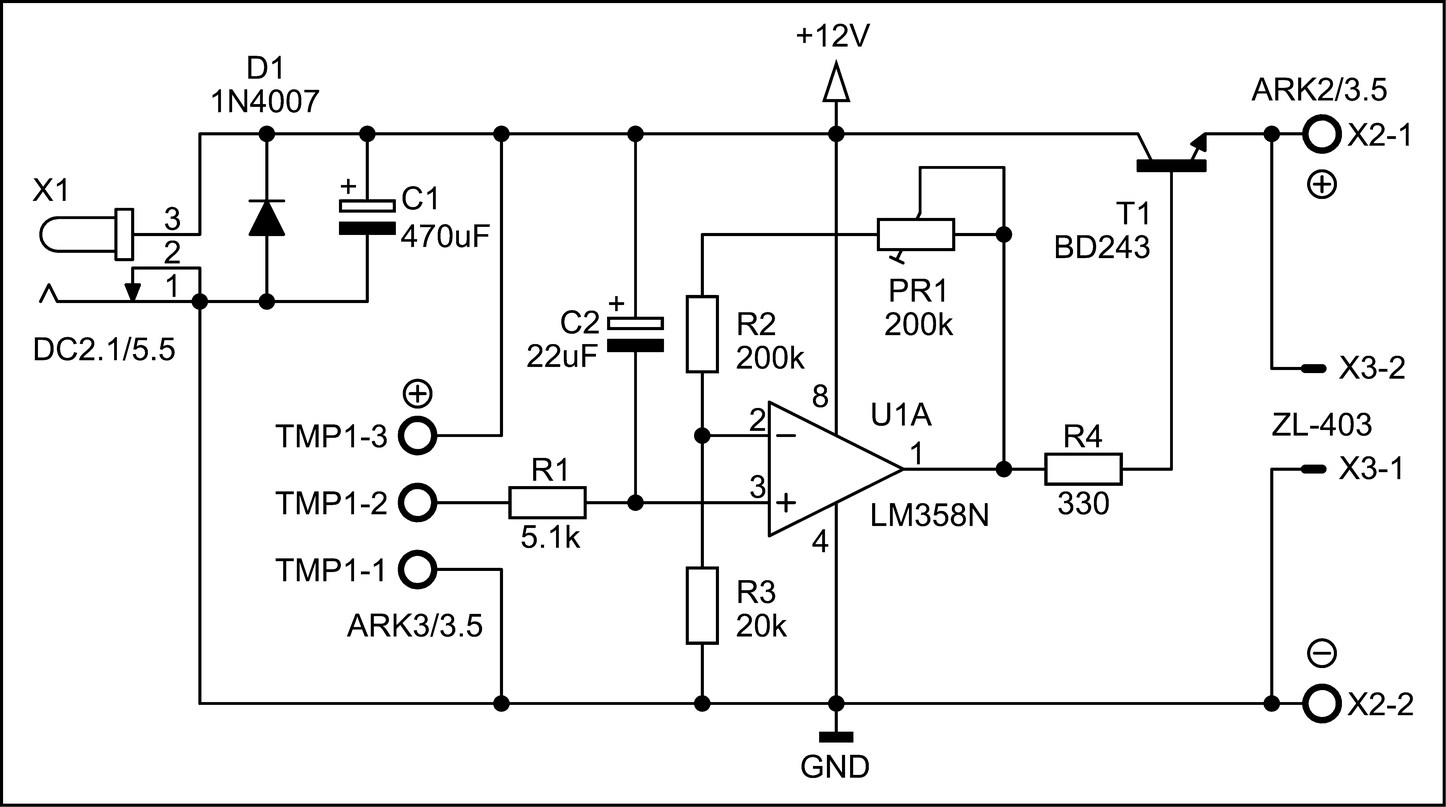C: (331, 192, 408, 248), (603, 308, 672, 368)
D: (239, 186, 305, 254)
Q: (1119, 117, 1230, 196)
R: (668, 281, 729, 390), (679, 553, 740, 652), (1035, 440, 1139, 491), (498, 478, 594, 527)
U: (753, 390, 932, 553)
